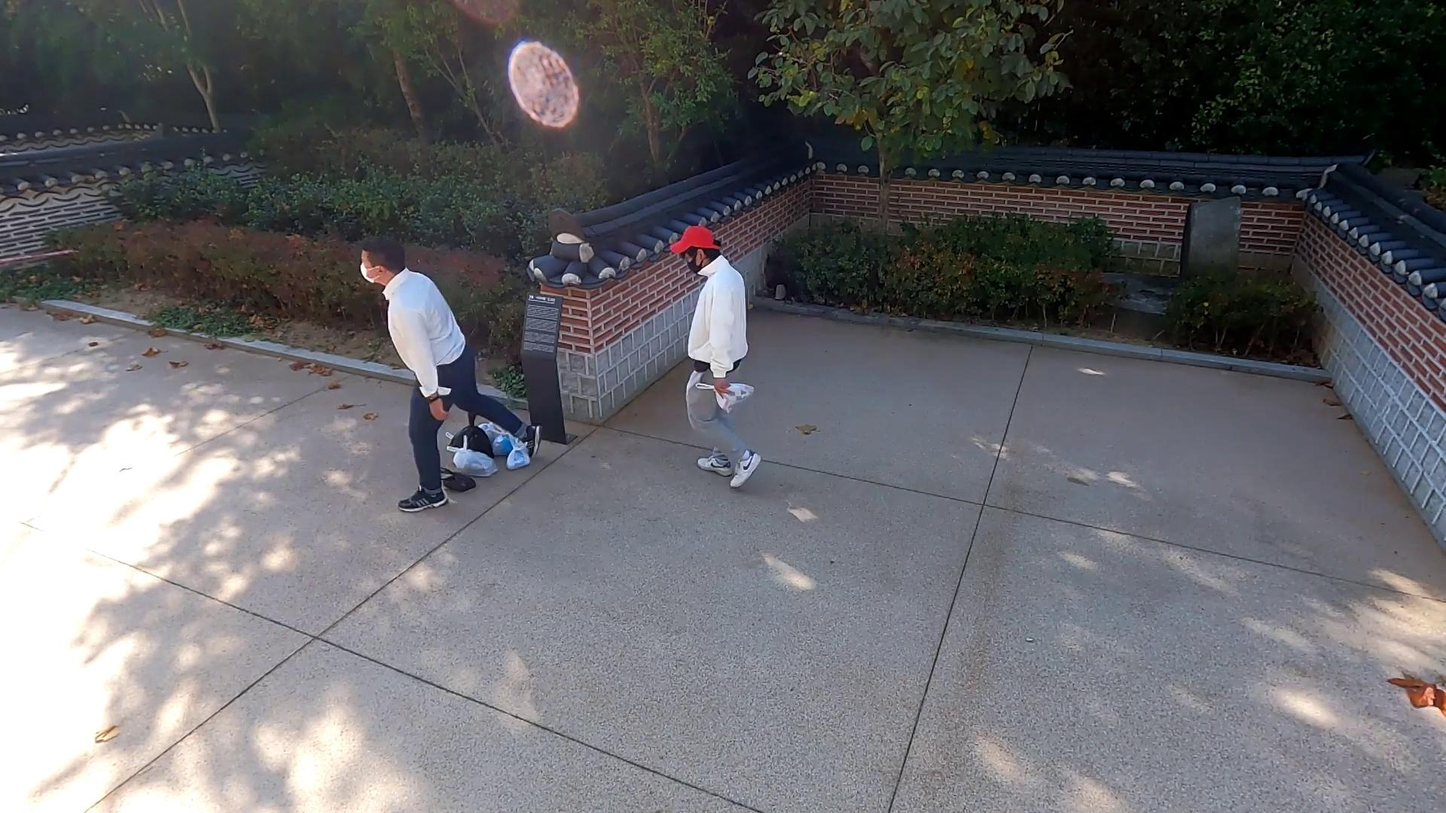person: (351, 231, 546, 518), (668, 222, 769, 496)
trash: (446, 411, 496, 458), (445, 435, 498, 477), (695, 381, 755, 414), (488, 415, 520, 457), (437, 464, 477, 492), (506, 434, 531, 469), (472, 417, 496, 451)
